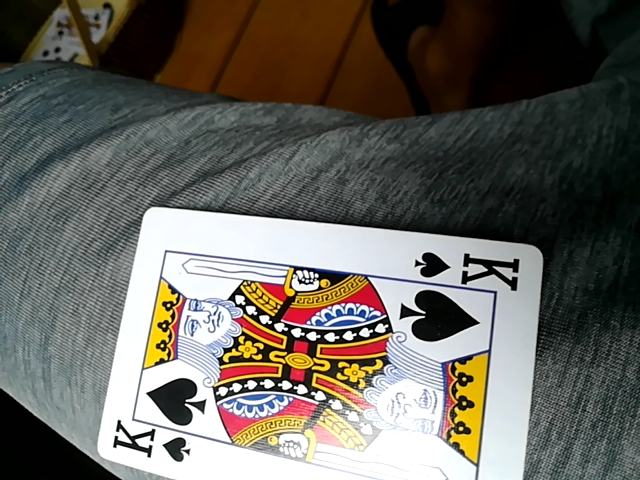ht k: (104, 202, 546, 478)
